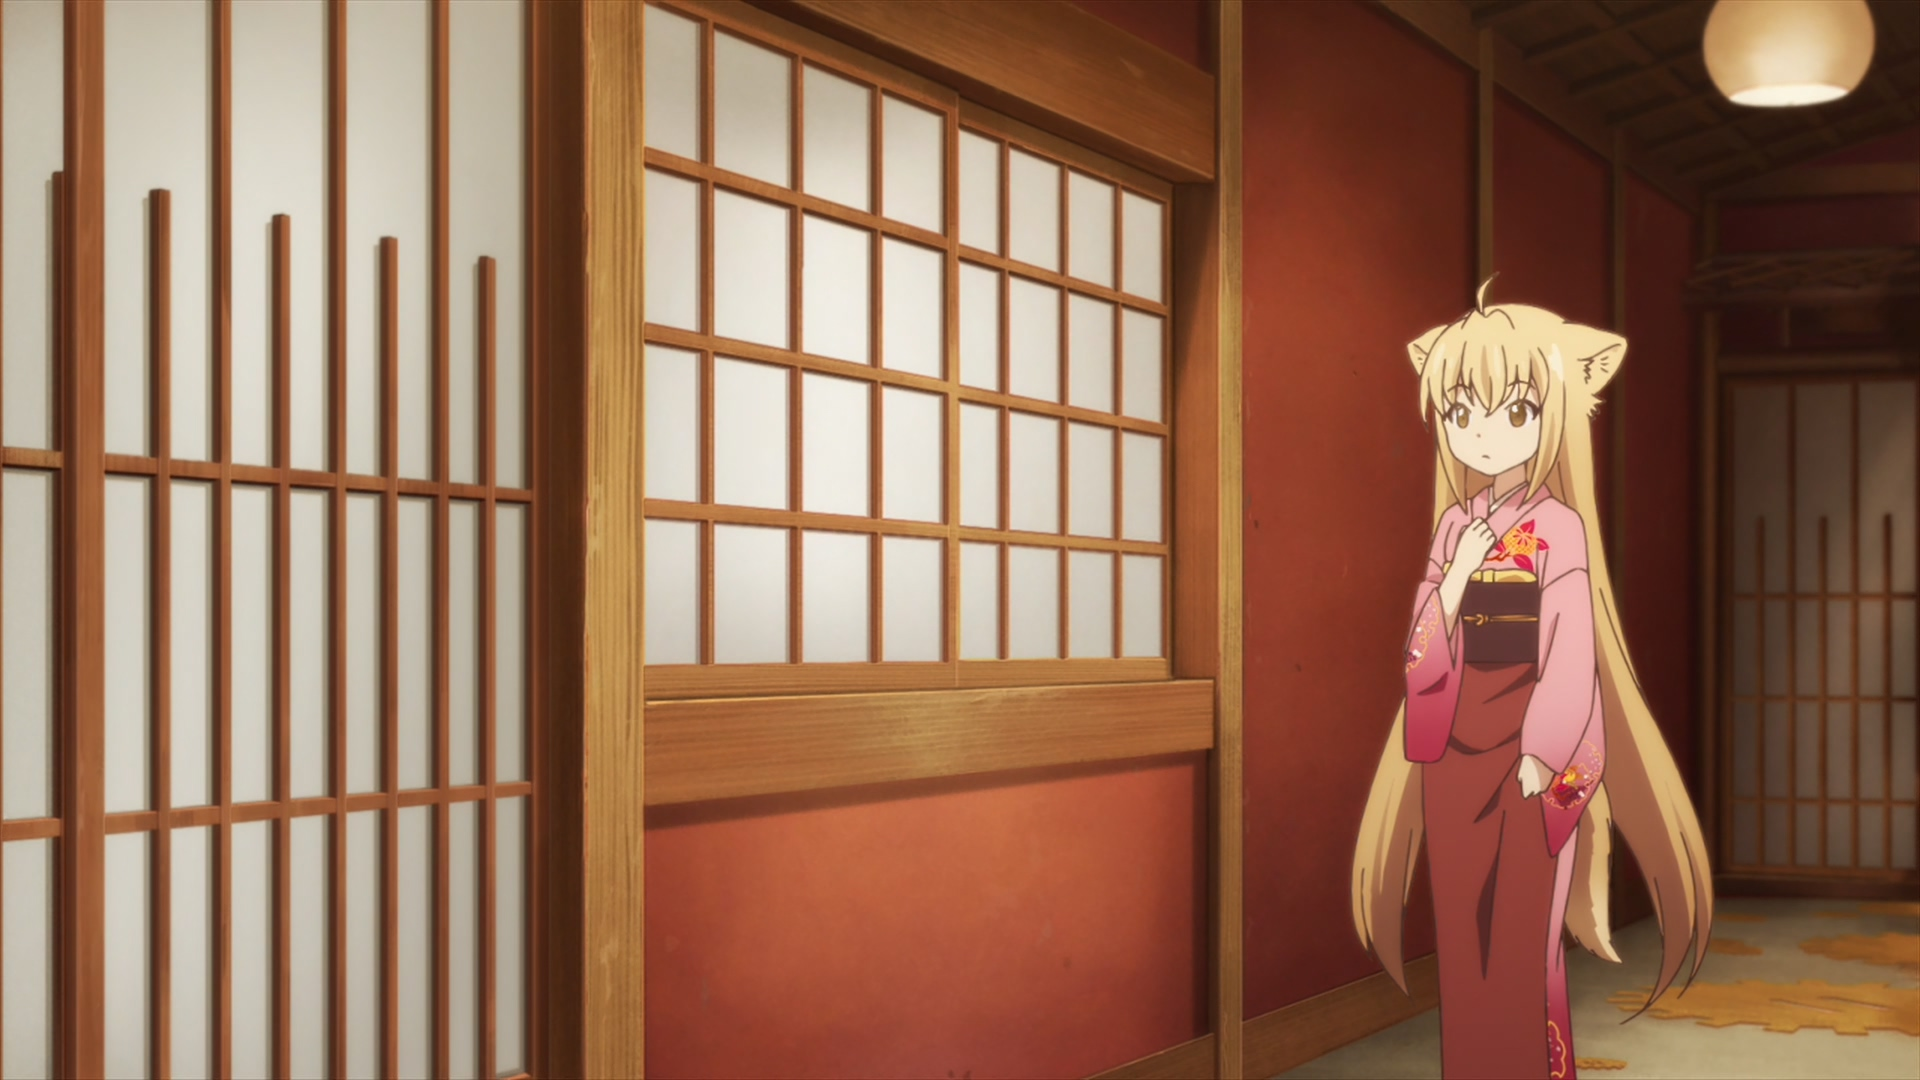柚: (1352, 269, 1712, 1080)
